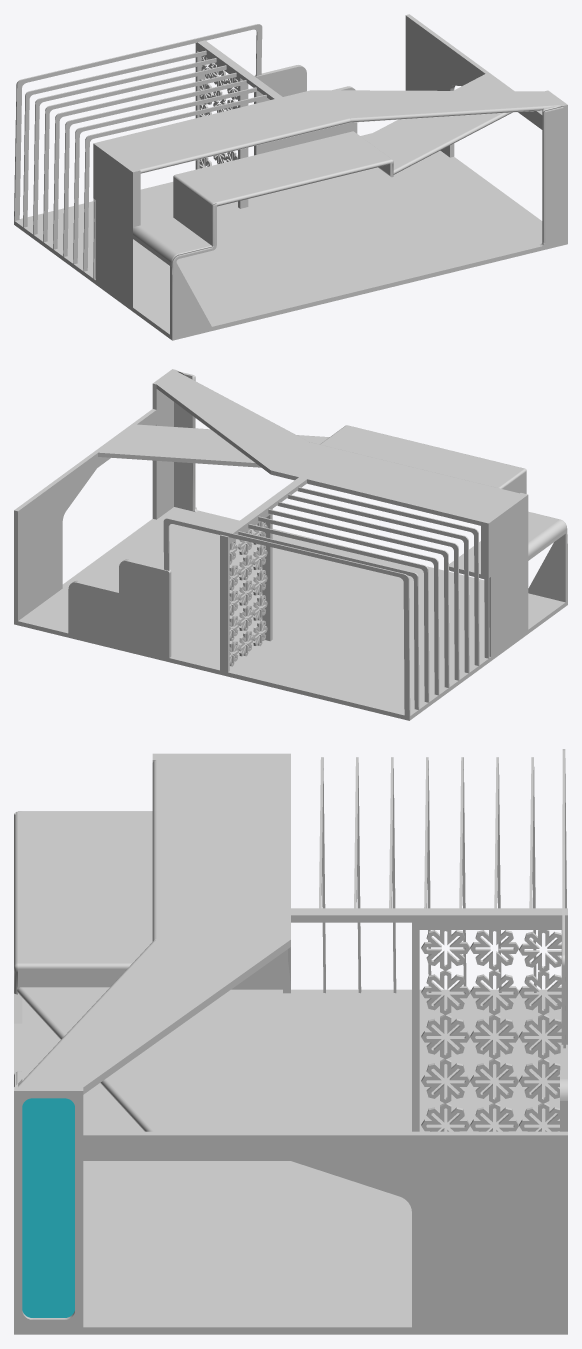
The picture shows the model from 3 angles, top to bottom: view 1: azimuth 30°, elevation 25°; view 2: azimuth 150°, elevation 25°; view 3: azimuth 270°, elevation 25°; orthographic projection. The views are drawn at different scales.
Parts seen in each view (by area): view 1: Mesh11_FrontColor_0, Mesh4_FrontColor_0, Mesh5_FrontColor_0, Mesh7_FrontColor_0, Mesh10_FrontColor_0, Mesh3_FrontColor_0, Mesh9_FrontColor_0, Mesh8_FrontColor_0, Mesh1_FrontColor_0, Mesh2_FrontColor_0; view 2: Mesh11_FrontColor_0, Mesh2_FrontColor_0, Mesh4_FrontColor_0, Mesh9_FrontColor_0, Mesh3_FrontColor_0, Mesh5_FrontColor_0, Mesh7_FrontColor_0, Mesh8_FrontColor_0, Mesh10_FrontColor_0, Mesh1_FrontColor_0; view 3: Mesh11_FrontColor_0, Mesh2_FrontColor_0, Mesh11_Translucent_Glass_Tinted_0, Mesh4_FrontColor_0, Mesh5_FrontColor_0, Mesh3_FrontColor_0, Mesh9_FrontColor_0, Mesh8_FrontColor_0, Mesh1_FrontColor_0, Mesh10_FrontColor_0, Mesh7_FrontColor_0.
Boxes of the visible parts, left/top/right/bottom form: Mesh11_FrontColor_0: left=14, top=14, right=567, bottom=340; Mesh4_FrontColor_0: left=14, top=24, right=262, bottom=220; Mesh5_FrontColor_0: left=63, top=80, right=247, bottom=256; Mesh7_FrontColor_0: left=53, top=72, right=236, bottom=249; Mesh10_FrontColor_0: left=33, top=58, right=216, bottom=234; Mesh3_FrontColor_0: left=73, top=87, right=257, bottom=264; Mesh9_FrontColor_0: left=83, top=95, right=267, bottom=271; Mesh8_FrontColor_0: left=43, top=65, right=226, bottom=242; Mesh1_FrontColor_0: left=23, top=50, right=206, bottom=227; Mesh2_FrontColor_0: left=199, top=55, right=237, bottom=168; Mesh11_FrontColor_0: left=14, top=369, right=567, bottom=720; Mesh2_FrontColor_0: left=229, top=521, right=267, bottom=666; Mesh4_FrontColor_0: left=163, top=518, right=410, bottom=716; Mesh9_FrontColor_0: left=297, top=487, right=479, bottom=665; Mesh3_FrontColor_0: left=287, top=494, right=469, bottom=673; Mesh5_FrontColor_0: left=277, top=502, right=459, bottom=680; Mesh7_FrontColor_0: left=268, top=509, right=449, bottom=687; Mesh8_FrontColor_0: left=258, top=516, right=439, bottom=695; Mesh10_FrontColor_0: left=248, top=524, right=429, bottom=702; Mesh1_FrontColor_0: left=238, top=531, right=419, bottom=709; Mesh11_FrontColor_0: left=14, top=753, right=567, bottom=1334; Mesh2_FrontColor_0: left=421, top=930, right=561, bottom=1131; Mesh11_Translucent_Glass_Tinted_0: left=22, top=1098, right=74, bottom=1317; Mesh4_FrontColor_0: left=562, top=749, right=566, bottom=1048; Mesh5_FrontColor_0: left=389, top=757, right=396, bottom=993; Mesh3_FrontColor_0: left=354, top=757, right=361, bottom=993; Mesh9_FrontColor_0: left=319, top=757, right=325, bottom=993; Mesh8_FrontColor_0: left=459, top=757, right=466, bottom=992; Mesh1_FrontColor_0: left=529, top=757, right=536, bottom=992; Mesh10_FrontColor_0: left=494, top=757, right=501, bottom=992; Mesh7_FrontColor_0: left=424, top=757, right=431, bottom=992.
Size of the model in its own units: 9.8 by 3.42 by 6.8.
